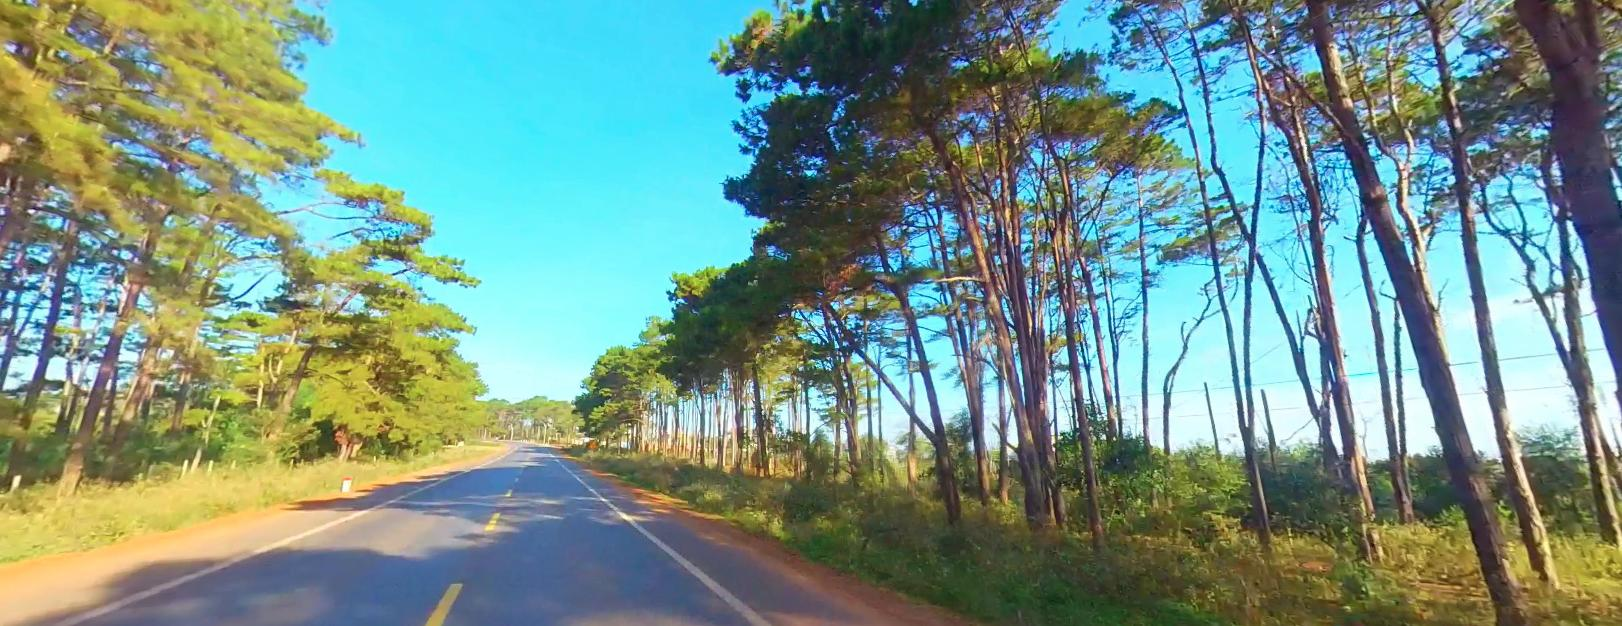Nguy hiem: (585, 439, 597, 448)
